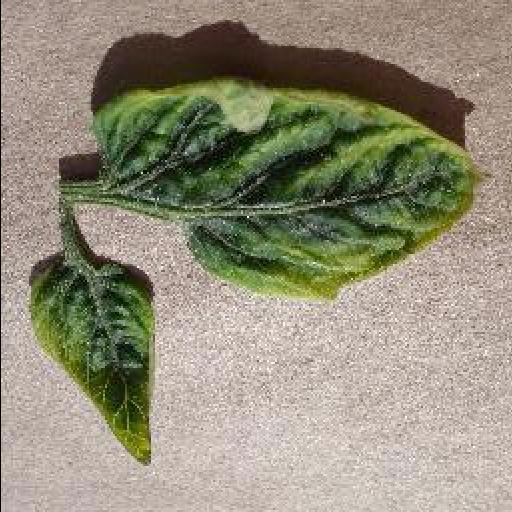disease_tomato: (90, 78, 492, 299), (26, 268, 162, 470)
